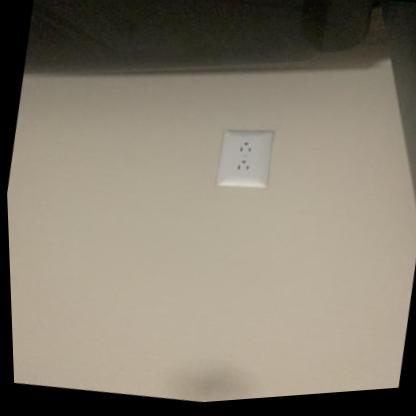OUTLET: (213, 123, 277, 194)
